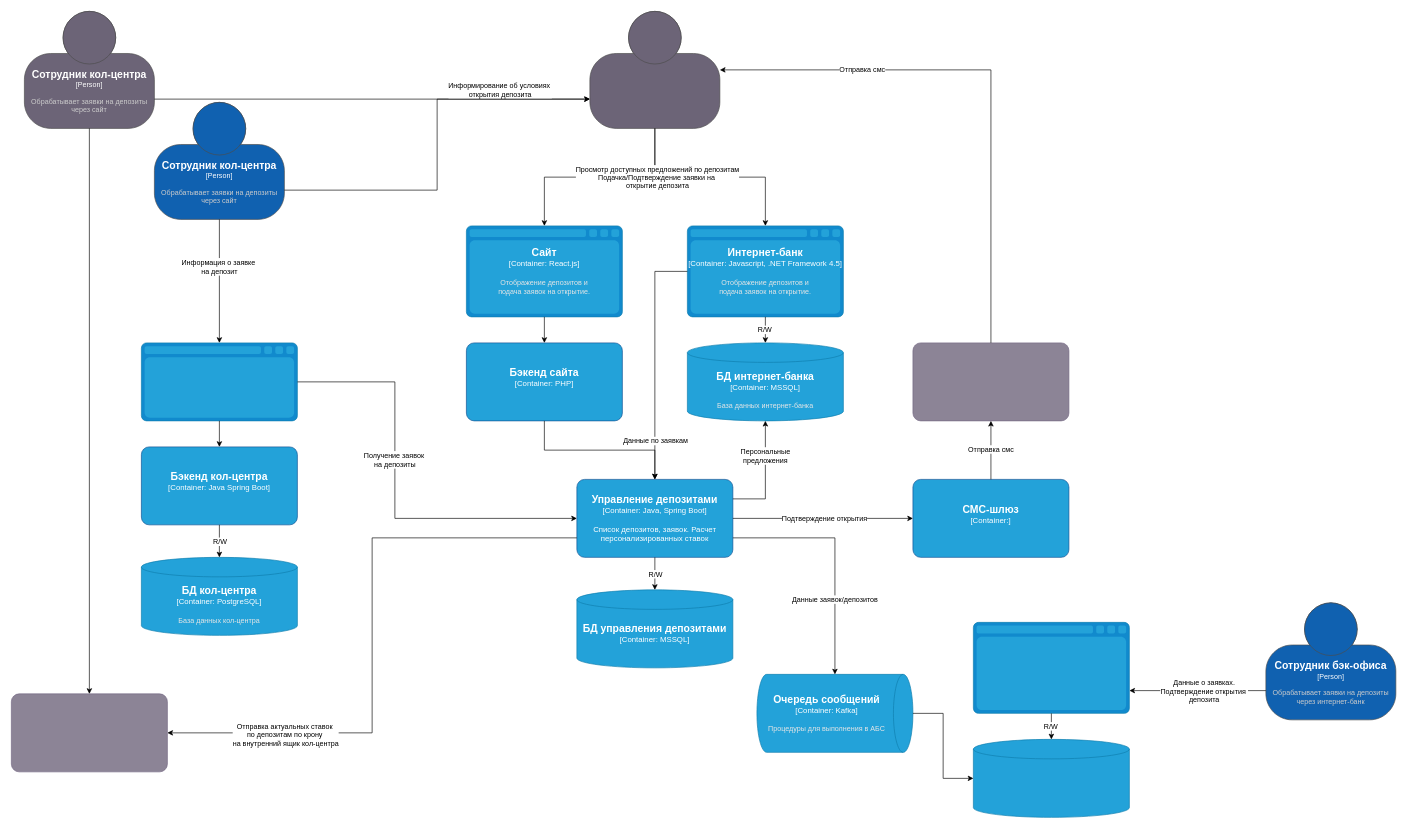
Some shapes in this 1407 by 829 pixel diagram are drawn without their labels. Each missing label, with the centre of its shape:
UI кол-центра [Container: React.js] Обработка заявок: (x=219, y=381)
БД АБС [Container: Oracle] База данных АБС: (x=1051, y=778)
Клиент АБС [Container: Delphi] Банковские операции: (x=1051, y=667)
Клиент банка [Person] Новый или существующий: (x=654, y=69)
Партнерский кол-центр [Software System]: (x=89, y=732)
Телеком-оператор [Software System]: (x=990, y=381)
